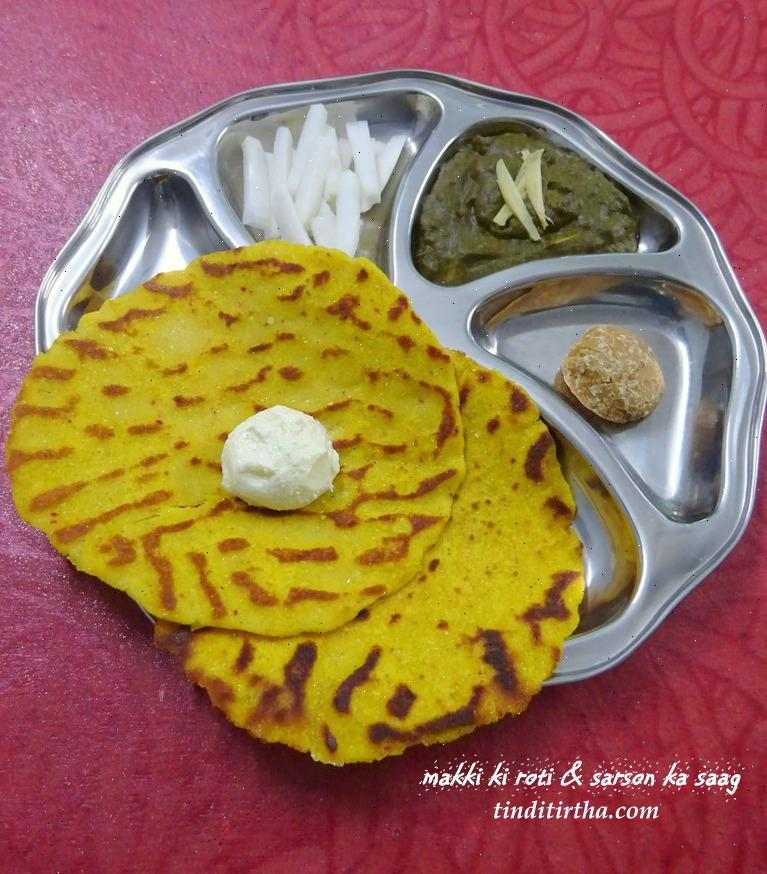saag: (452, 139, 606, 266)
